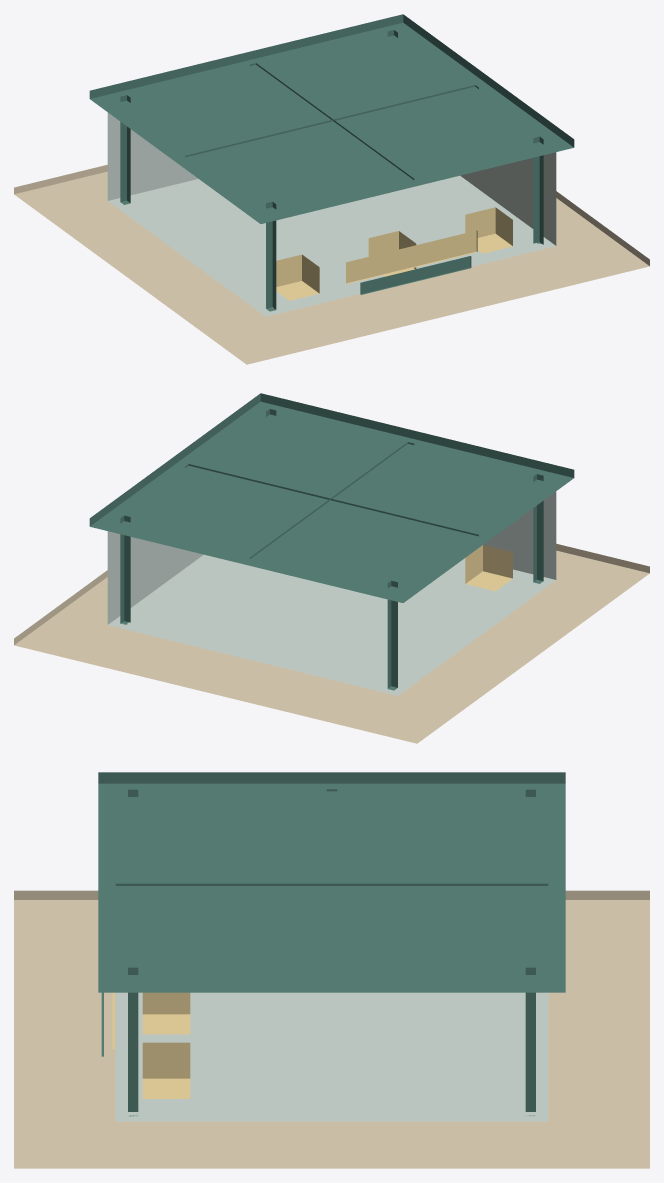
File: fishery.glb
The picture shows the model from 3 angles, top to bottom: view 1: azimuth 30°, elevation 25°; view 2: azimuth 150°, elevation 25°; view 3: azimuth 270°, elevation 25°; orthographic projection. The views are drawn at different scales.
Parts seen in each view (by area): view 1: Roof, Foundation, Walls, Details, Frame; view 2: Roof, Walls, Foundation, Frame, Details; view 3: Roof, Foundation, Walls, Details, Frame.
Part boxes in pixels (x1=…): Roof: x1=89, y1=14, x2=574, y2=223; Foundation: x1=14, y1=164, x2=649, y2=364; Walls: x1=107, y1=112, x2=556, y2=316; Details: x1=276, y1=207, x2=512, y2=300; Frame: x1=120, y1=30, x2=543, y2=311; Roof: x1=89, y1=393, x2=574, y2=602; Walls: x1=107, y1=491, x2=556, y2=695; Foundation: x1=14, y1=543, x2=649, y2=743; Frame: x1=120, y1=409, x2=543, y2=690; Details: x1=465, y1=545, x2=512, y2=591; Roof: x1=98, y1=772, x2=565, y2=992; Foundation: x1=14, y1=890, x2=649, y2=1168; Walls: x1=115, y1=992, x2=548, y2=1121; Details: x1=101, y1=992, x2=190, y2=1098; Frame: x1=115, y1=789, x2=548, y2=1116.
Bounding box in the file's own units: 40 × 10.94 × 40.
